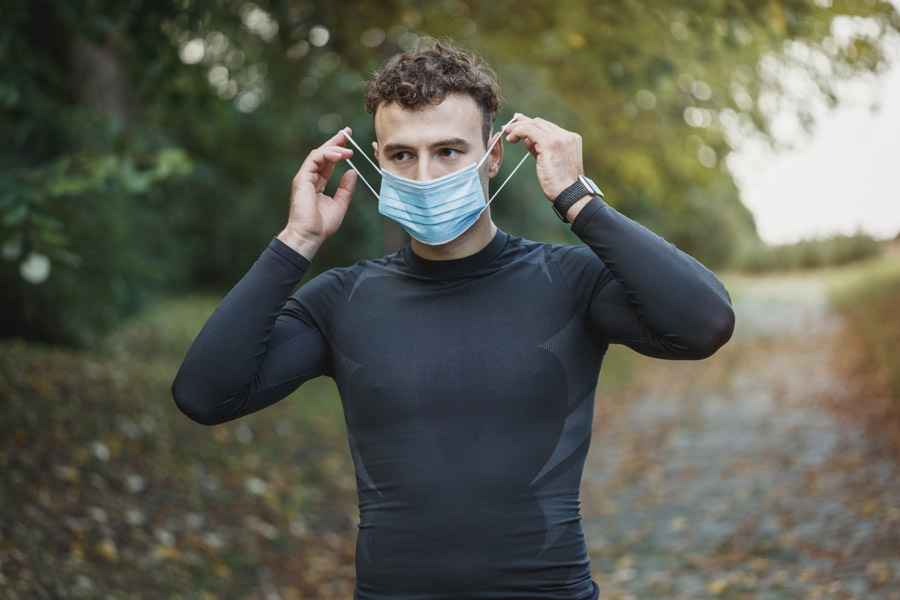male: (167, 38, 740, 600)
